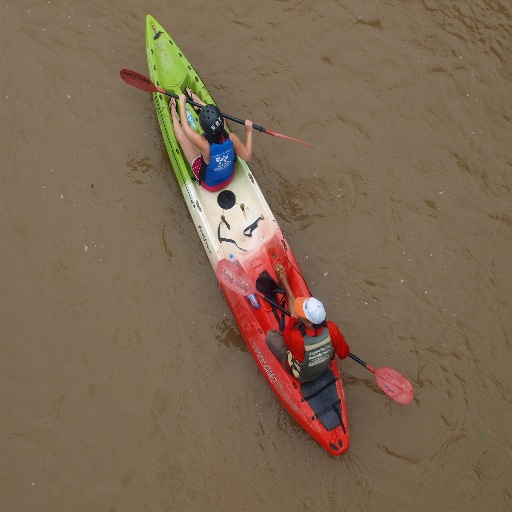hand: (177, 93, 186, 107), (243, 119, 253, 130)
